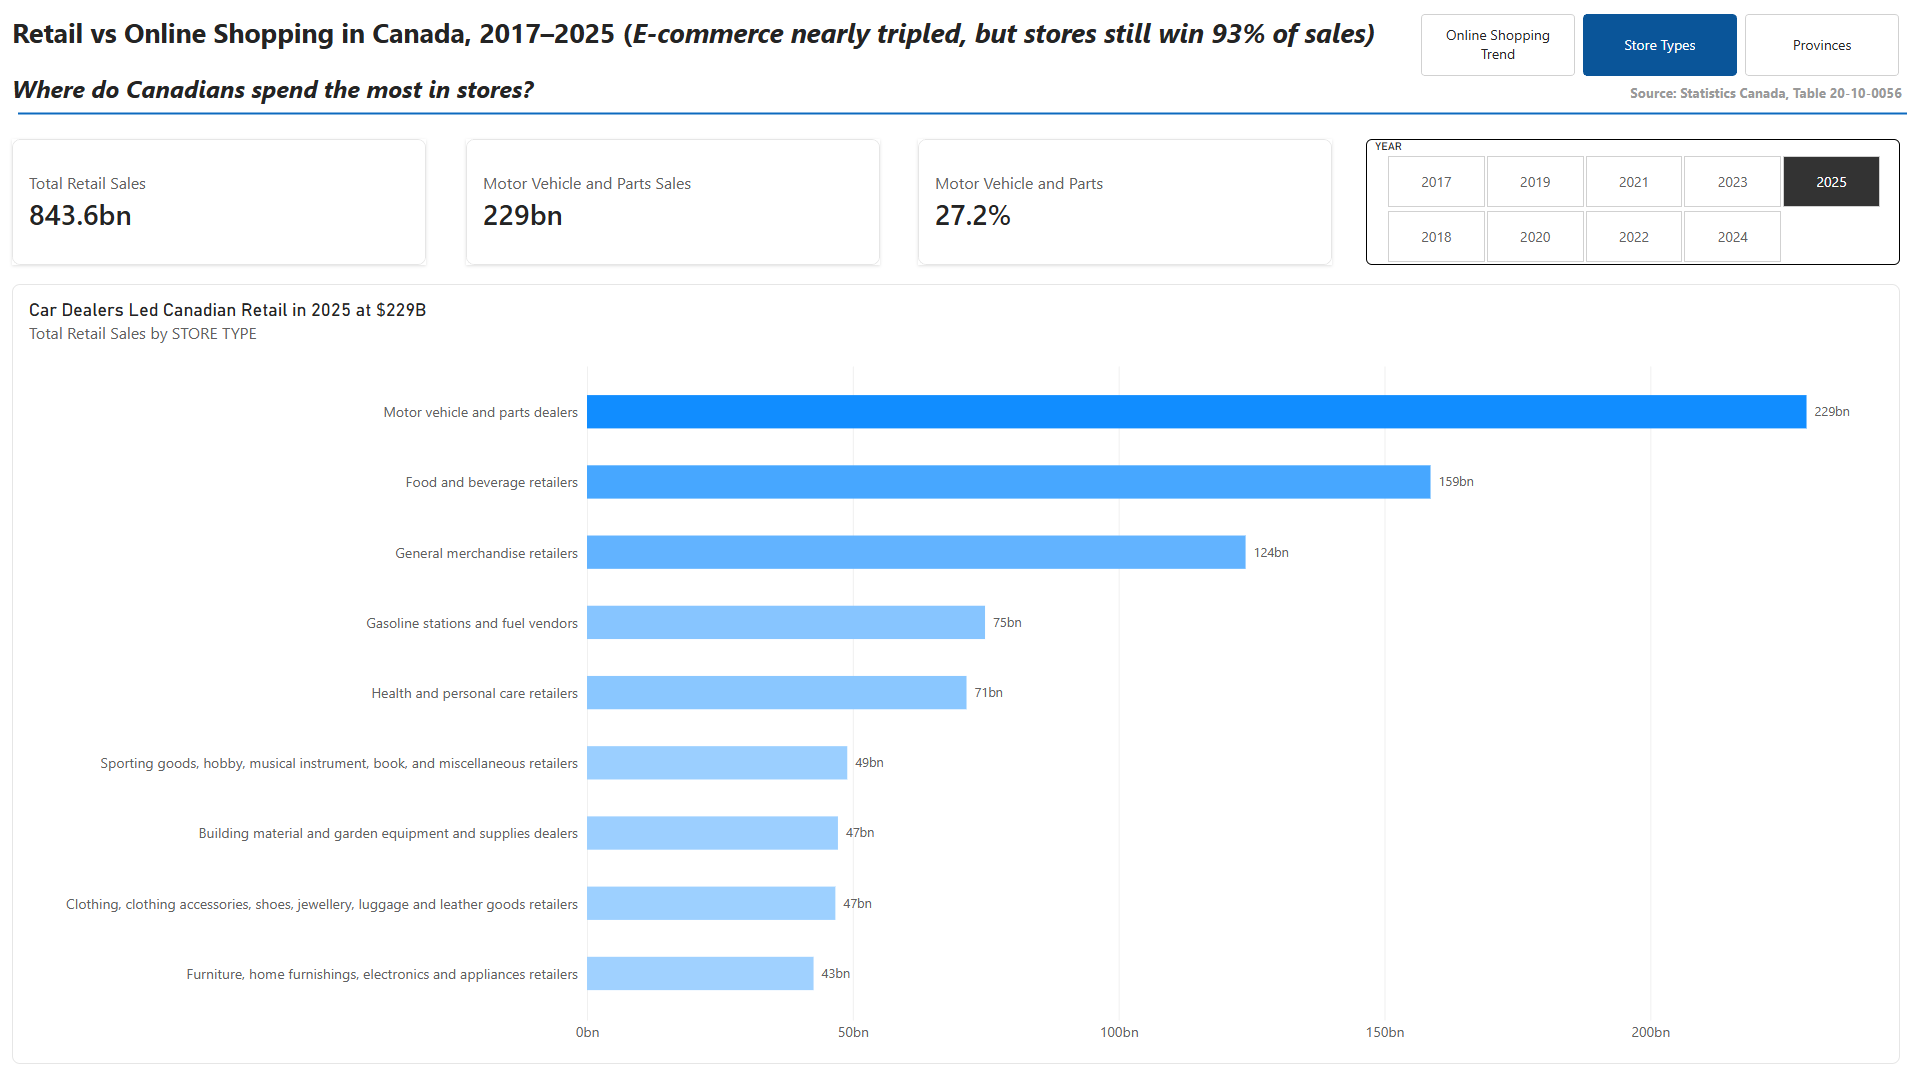

This screenshot's page, from the dashboard's own definition file:
{"tool":"powerbi","page":{"name":"Store Types","canvas":[1920,1080],"ordinal":1},"visuals":[{"type":"clusteredBarChart","title":"Car Dealers Led Canadian Retail in 2025 at $229B","fields":{"Category":["Retail_Sales.STORE TYPE"],"Y":["Retail_Sales.Total Retail Sales"]},"box":[16.6,287.5,1888.2,779.2],"z":0},{"type":"slicer","fields":{"Values":["Calendar.YEAR"]},"box":[1370.8,142.2,534.1,125.6],"z":1000},{"type":"pageNavigator","box":[1425.8,16.8,478.5,62.3],"z":2000},{"type":"textbox","box":[16.6,16.6,1903.4,98.3],"z":3000},{"type":"shape","box":[22.7,48.4,1889,136.9],"z":4000},{"type":"cardVisual","fields":{"Data":["Retail_Sales.Total Retail Sales"]},"box":[16.6,142.2,414.6,125.6],"z":5000},{"type":"cardVisual","fields":{"Data":["Retail_Sales.Car Dealer Share %"]},"box":[922.9,142.2,414.6,125.6],"z":6000},{"type":"cardVisual","fields":{"Data":["Retail_Sales.Motor Vehicle and Parts Sales"]},"box":[470.5,142.2,414.6,125.6],"z":7000},{"type":"shape","box":[1907,2,13,103],"z":7001}]}

Visuals, with their boxes in screenshot pixels (x1, y1, x2, y2), scaled from the page's 1920x1080 canvas onto the 1909x1071 screenshot:
"Car Dealers Led Canadian Retail in 2025 at $229B" clusteredBarChart: {"x1": 17, "y1": 285, "x2": 1894, "y2": 1058}
slicer - Calendar.YEAR: {"x1": 1363, "y1": 141, "x2": 1894, "y2": 266}
pageNavigator: {"x1": 1418, "y1": 17, "x2": 1893, "y2": 78}
textbox: {"x1": 17, "y1": 16, "x2": 1908, "y2": 114}
shape: {"x1": 23, "y1": 48, "x2": 1901, "y2": 184}
cardVisual - Retail_Sales.Total Retail Sales: {"x1": 17, "y1": 141, "x2": 429, "y2": 266}
cardVisual - Retail_Sales.Car Dealer Share %: {"x1": 918, "y1": 141, "x2": 1330, "y2": 266}
cardVisual - Retail_Sales.Motor Vehicle and Parts Sales: {"x1": 468, "y1": 141, "x2": 880, "y2": 266}
shape: {"x1": 1896, "y1": 2, "x2": 1908, "y2": 104}
